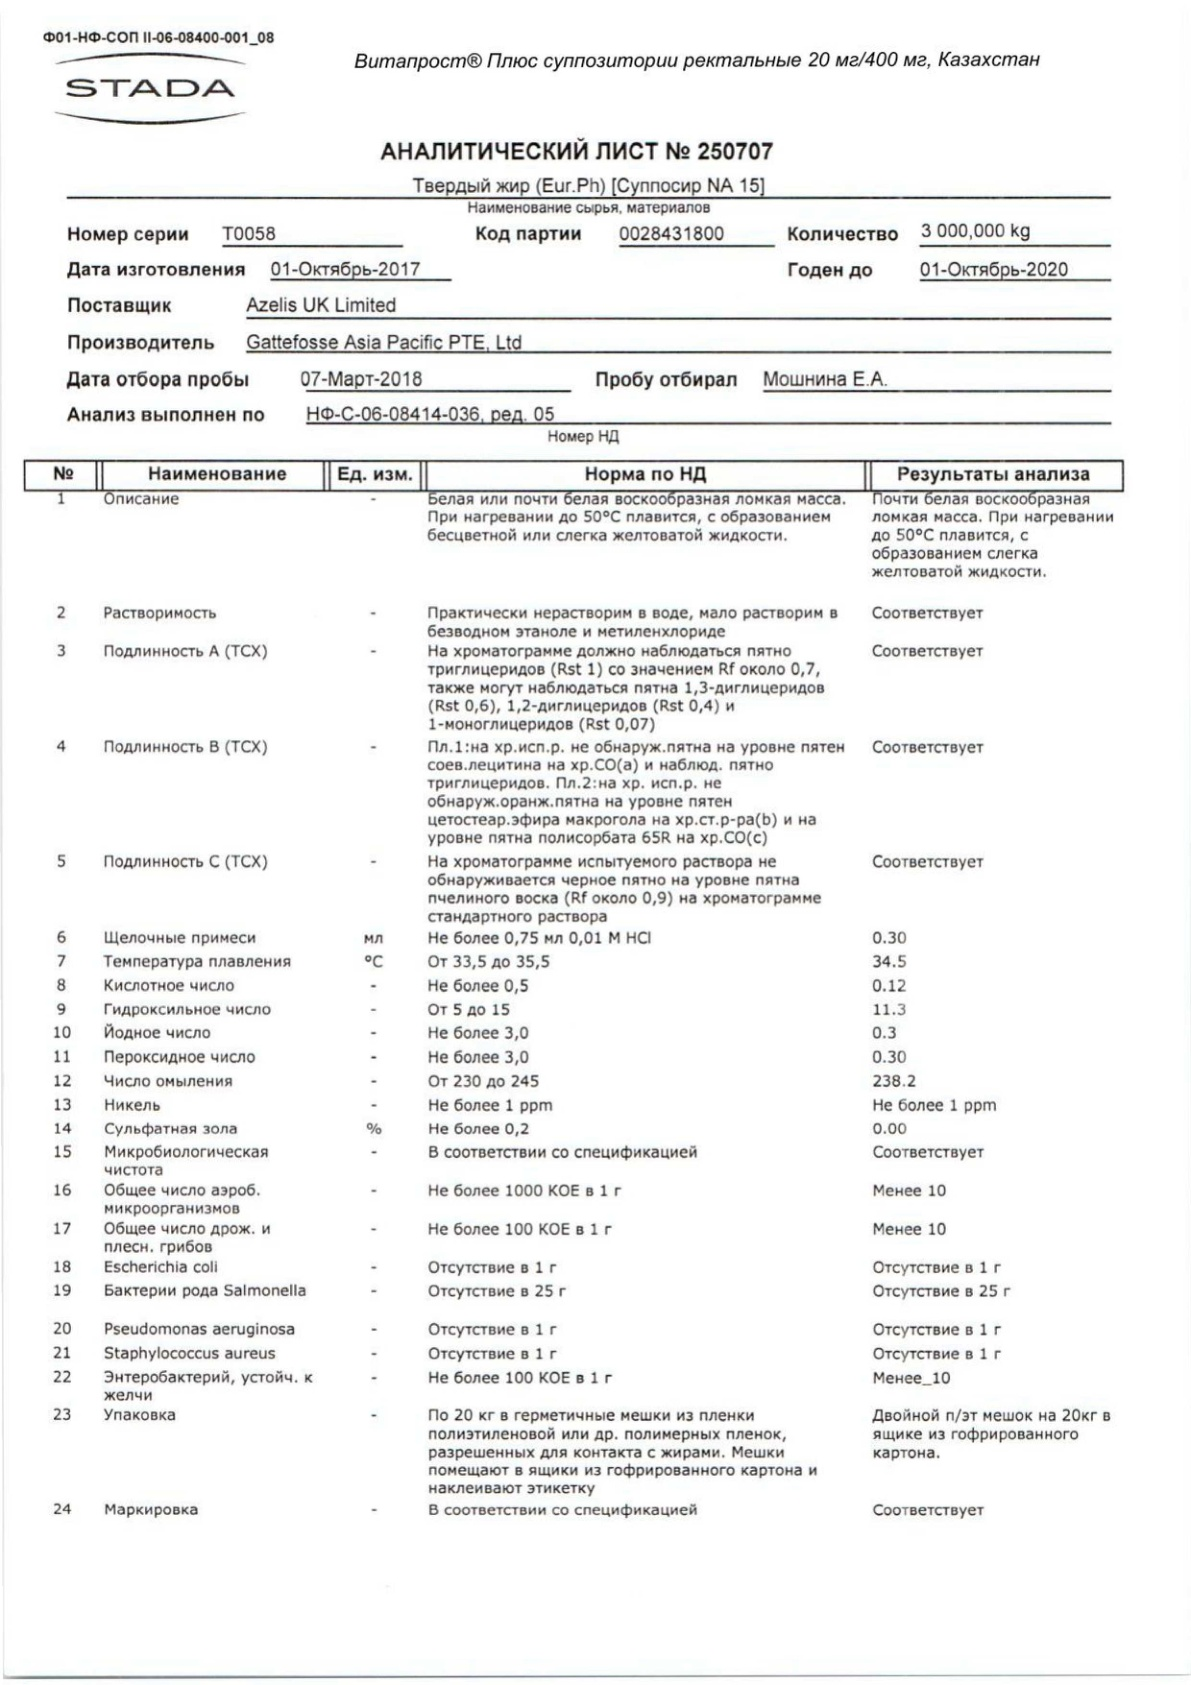partial_lined: (21, 455, 1125, 1532)
